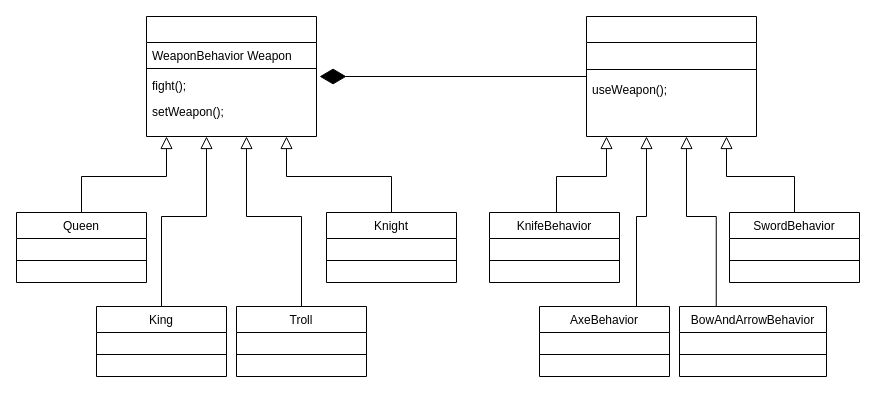
Some shapes in this 876 by 393 pixel diagram are drawn without their labels. Here are the shapes that lost their labels. From the top down, the box of each, then its label:
(146, 16, 316, 136): Character
(586, 16, 756, 136): WeaponBehavior
